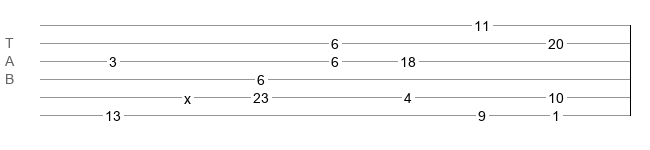1: (552, 108, 560, 118)
10: (548, 90, 564, 100)
11: (474, 18, 490, 28)
13: (105, 108, 121, 118)
18: (400, 54, 416, 64)
20: (548, 36, 564, 46)
23: (253, 90, 269, 100)
3: (109, 54, 117, 64)
4: (404, 90, 412, 100)
6: (257, 72, 265, 82), (331, 36, 339, 46), (331, 54, 339, 64)
9: (478, 108, 486, 118)
x: (184, 91, 191, 99)
